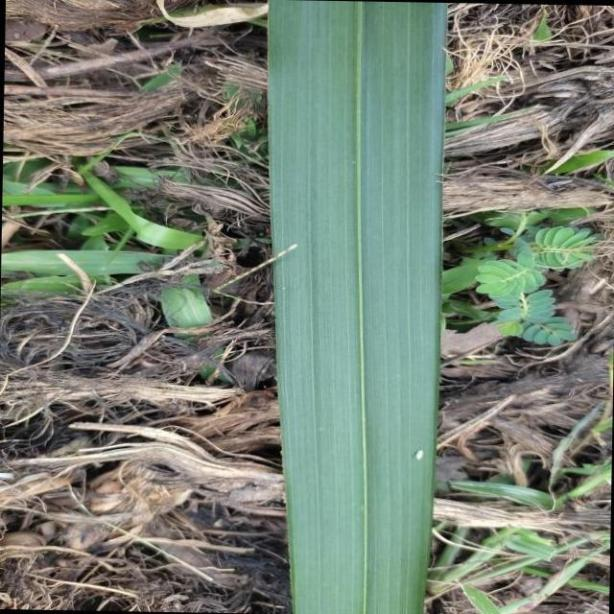Healthy: (267, 3, 444, 614)
